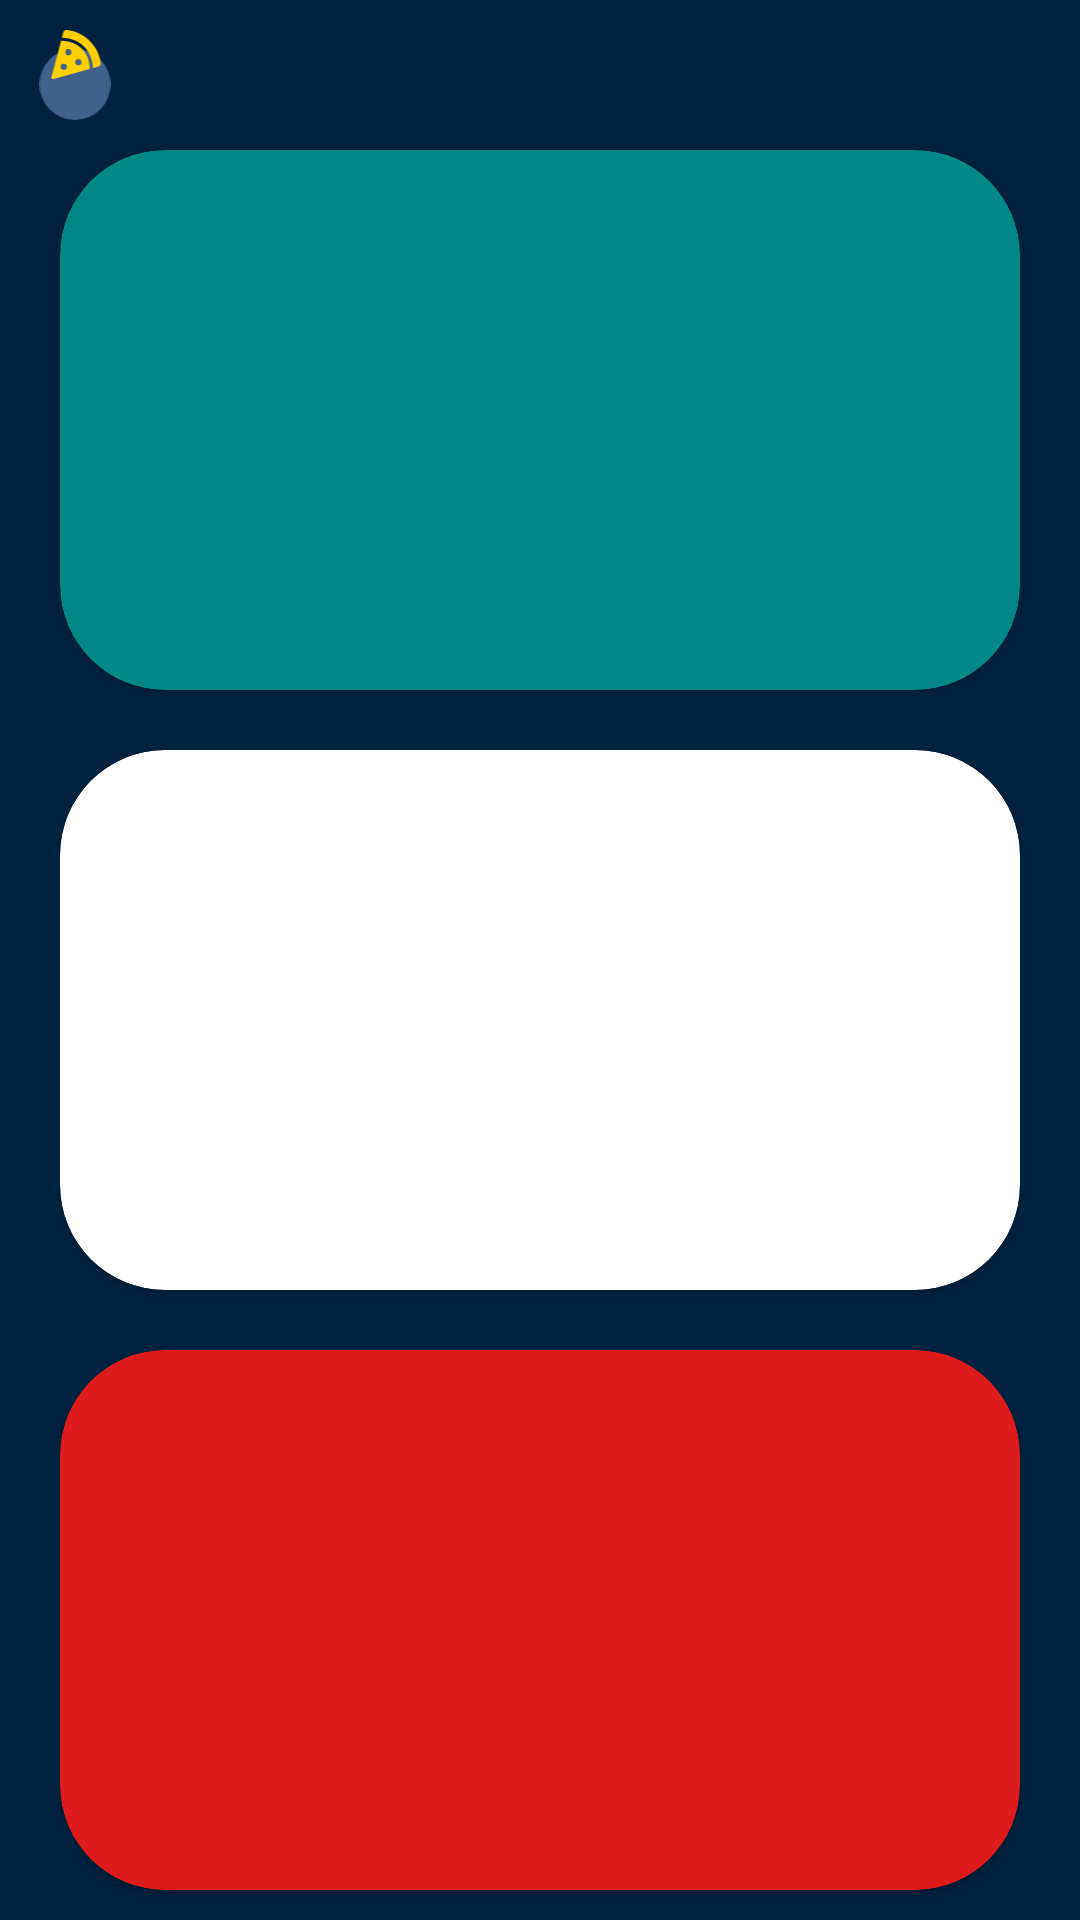

Named icons in this screenshot (1080 × 1920) and their centers, (x=x, y=y):
food circle: (x=75, y=75)
